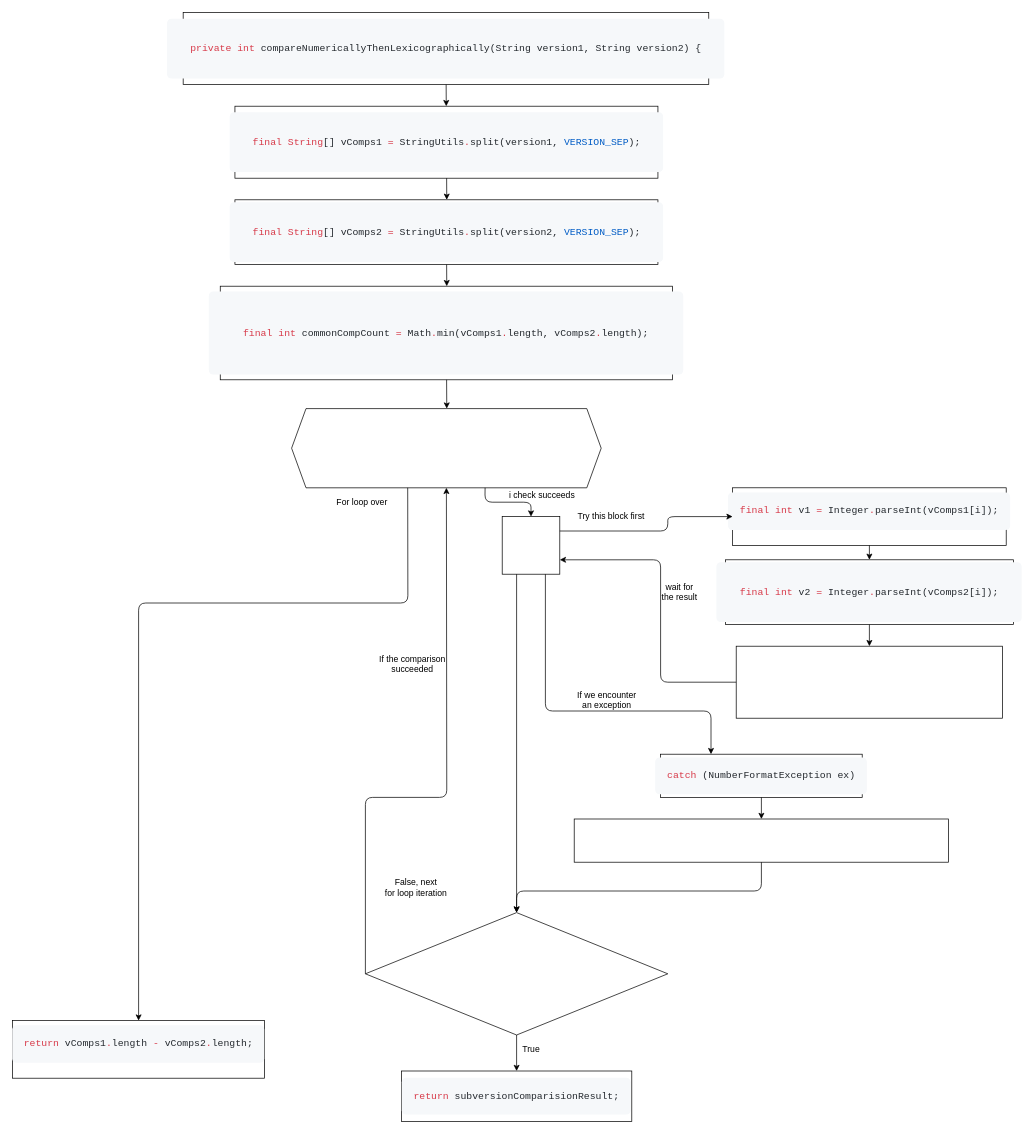
Some shapes in this 1034 by 1134 pixel diagram are drawn without their labels. Each missing label, with the centre of its shape:
"for ( int i = 0 ; i < commonCompCount; i ++ ) {" belongs at pixel 446 448.
"if (subversionComparisionResult != 0 )" belongs at pixel 516 973.
"subversionComparisionResult = v1 - v2;" belongs at pixel 869 681.
"subversionComparisionResult = vComps1[i] . compareTo(vComps2[i]);" belongs at pixel 761 840.
"try" belongs at pixel 530 545.
